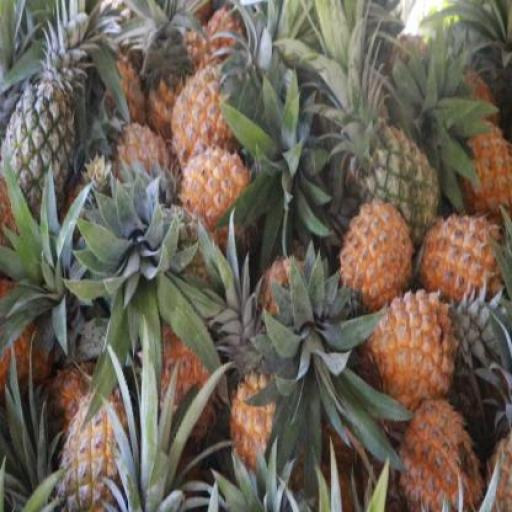Pineapple - v8 v1: (368, 290, 454, 413), (395, 402, 486, 511), (340, 201, 416, 316), (422, 212, 505, 310), (173, 64, 244, 166), (177, 149, 250, 237)
